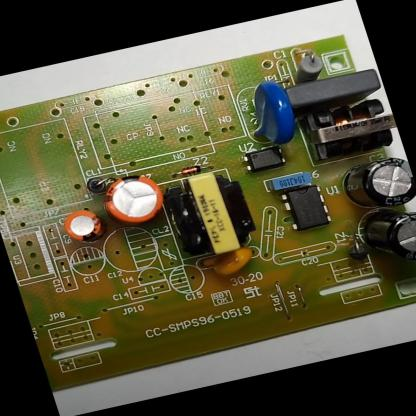Cap1: (100, 171, 170, 229)
Cap2: (60, 206, 105, 244)
Cap3: (336, 153, 416, 217)
Cap4: (354, 202, 416, 273)
MOSFET: (280, 183, 333, 232)
Mov: (238, 75, 302, 150)
Resistor: (288, 51, 326, 84)
Transformer: (158, 168, 262, 262), (298, 93, 402, 164)
